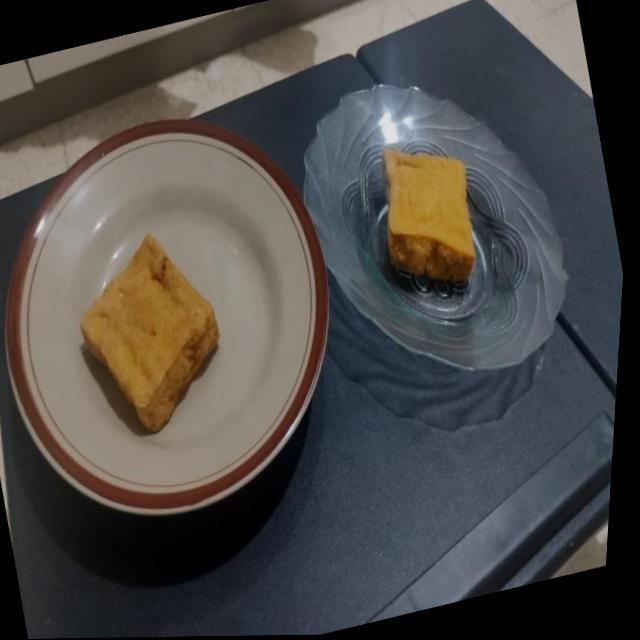tahu_goreng: (80, 234, 219, 432), (382, 147, 475, 281)
